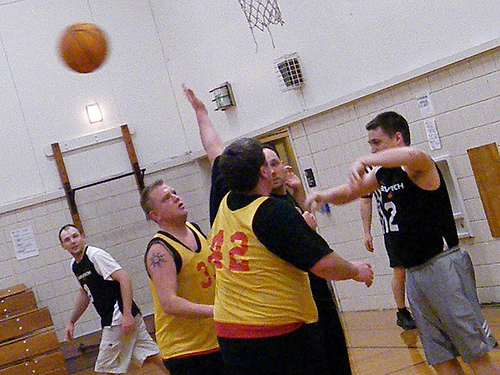basketball: (57, 22, 110, 74)
